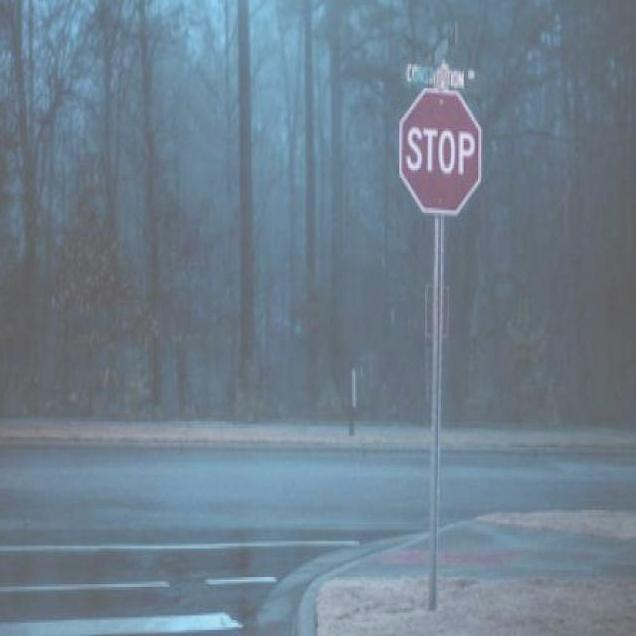stop_sign: (395, 80, 478, 214)
